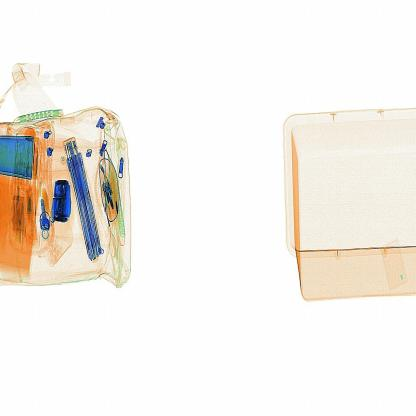scissors: (40, 176, 78, 229)
